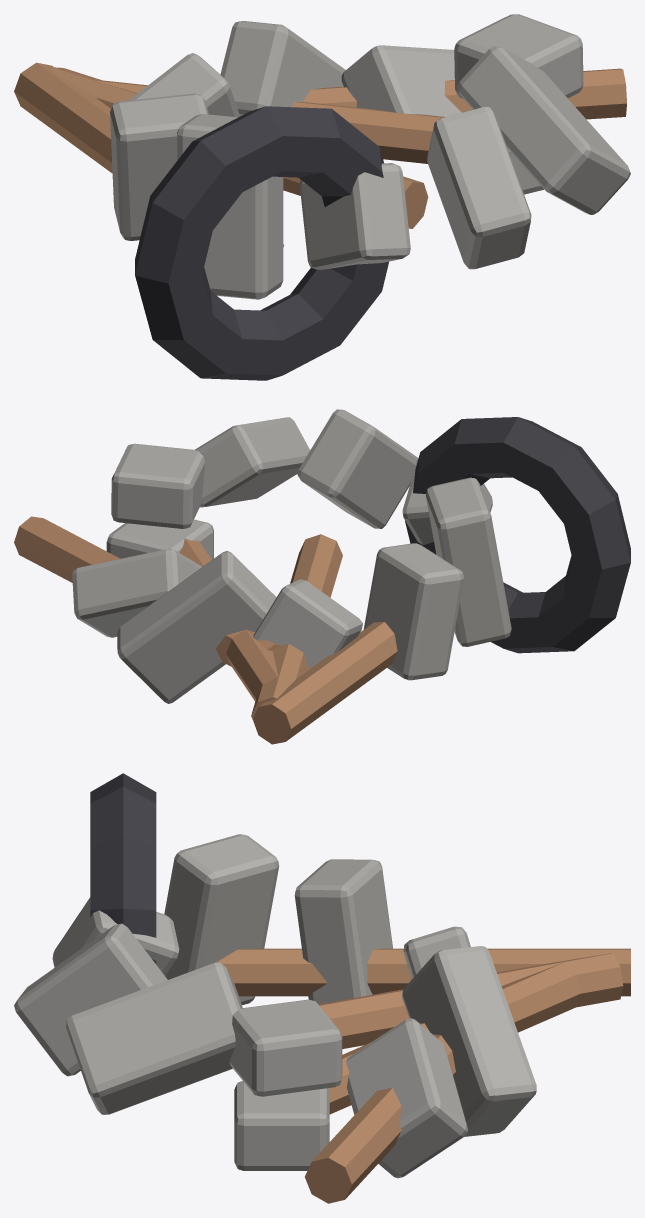
The model's file is prop_debris.glb.
3 renders of one model, top to bottom at view 1: azimuth 30°, elevation 25°; view 2: azimuth 150°, elevation 25°; view 3: azimuth 270°, elevation 25°, orthographic. The views are drawn at different scales.
Parts seen in each view (by area): view 1: prop_debris; view 2: prop_debris; view 3: prop_debris.
Part boxes in pixels (x1,y1,x2,y2): prop_debris: (14,14,630,380); prop_debris: (14,409,630,744); prop_debris: (14,773,630,1203).
Size of the model in its own units: 2.15 by 0.94 by 1.94.
